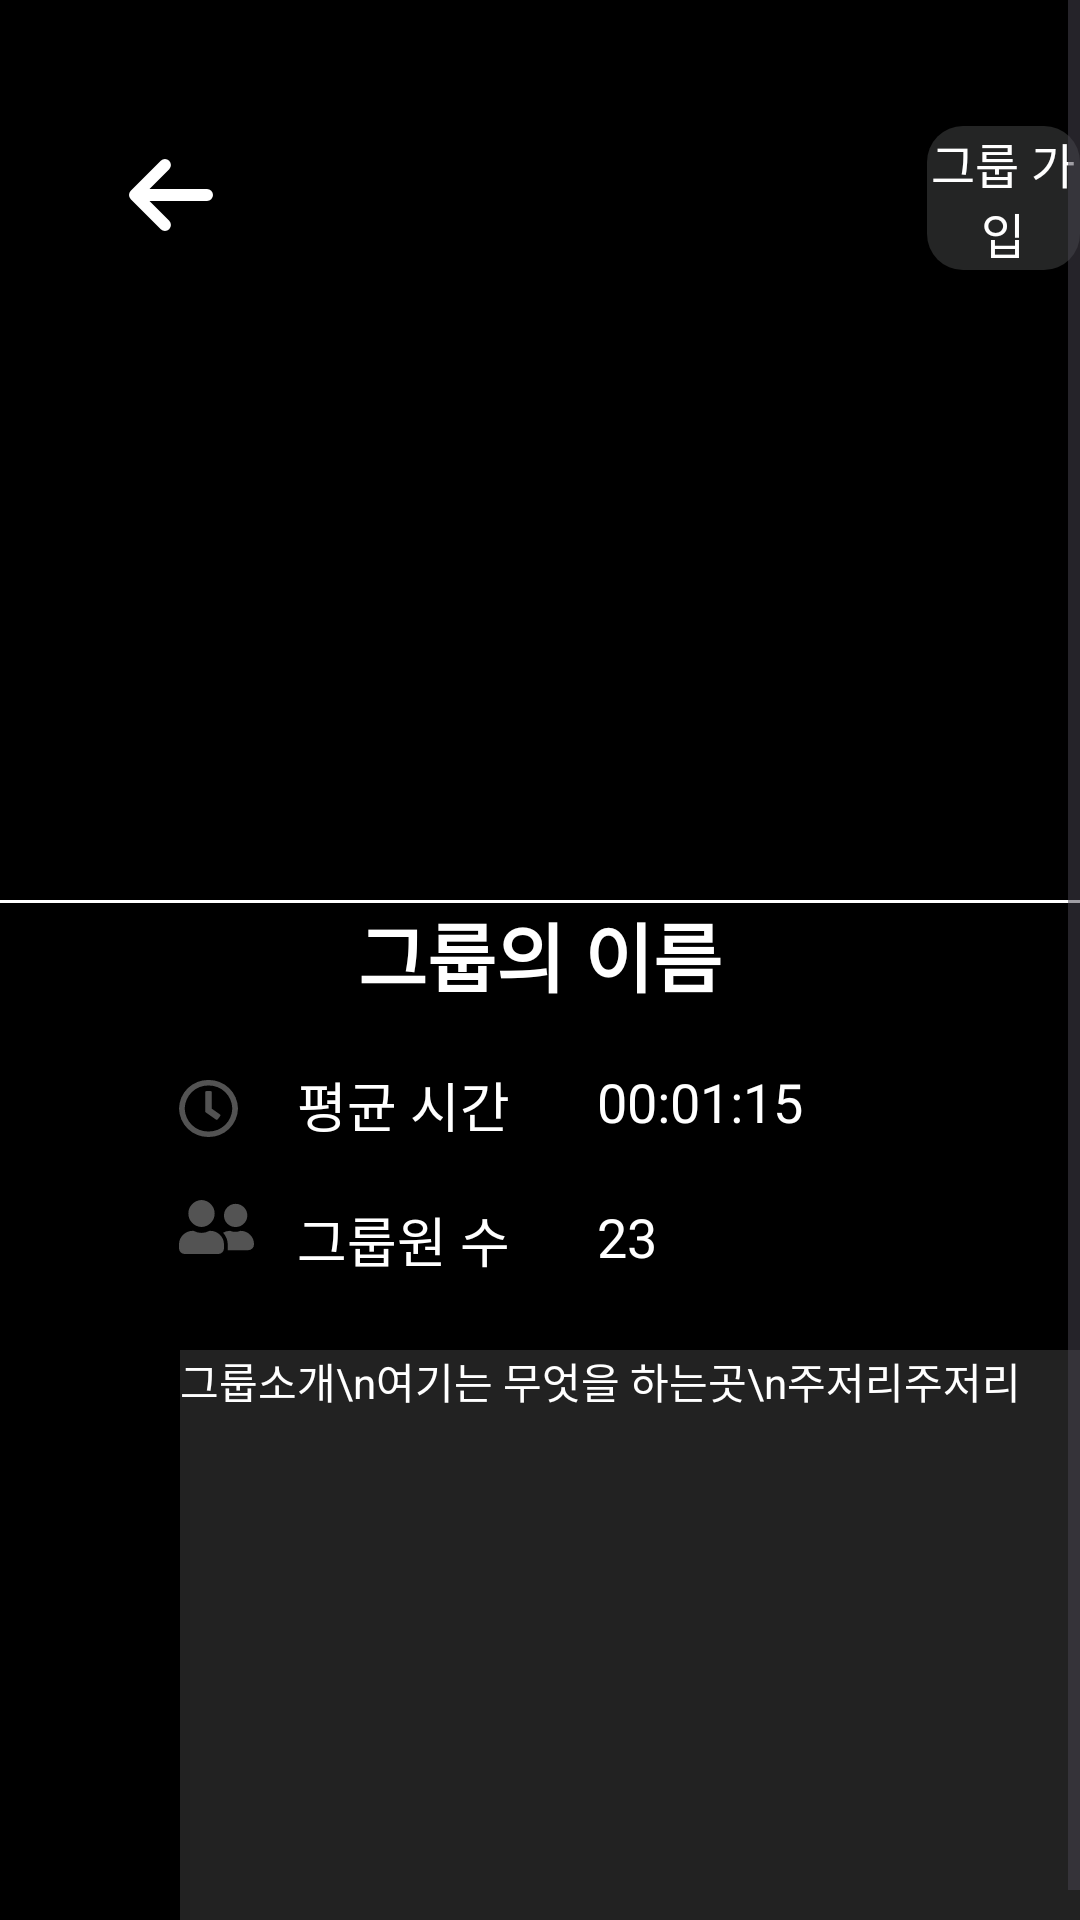

Point at icon controls on the screen. Image size 1080px x 1920px, points as (x,y).
arrow left: (171,195)
promotion detail clock: (208,1108)
promotion detail people: (216,1227)
